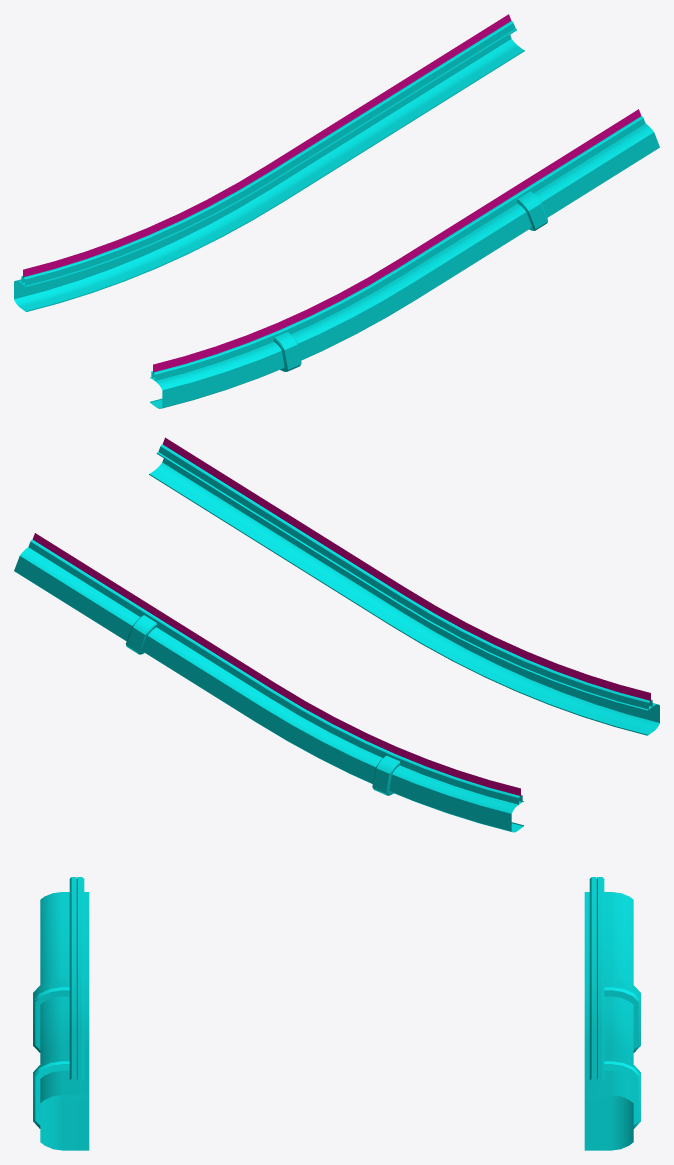
File: Mur_M_20.fbx
The picture shows the model from 3 angles, top to bottom: view 1: azimuth 30°, elevation 25°; view 2: azimuth 150°, elevation 25°; view 3: azimuth 270°, elevation 25°; orthographic projection. The views are drawn at different scales.
Parts seen in each view (by area): view 1: polySurface913; view 2: polySurface913; view 3: polySurface913.
Part boxes in pixels (box(x1,y1,x2,y2)): polySurface913: box(14, 14, 659, 408); polySurface913: box(14, 437, 659, 832); polySurface913: box(33, 877, 640, 1150).
Bounding box in the file's own units: 29.14 × 9.91 × 15.38.
